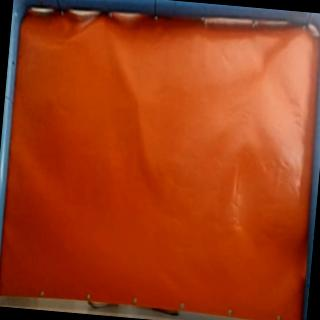Hit-hRxx: (134, 95, 145, 109)
